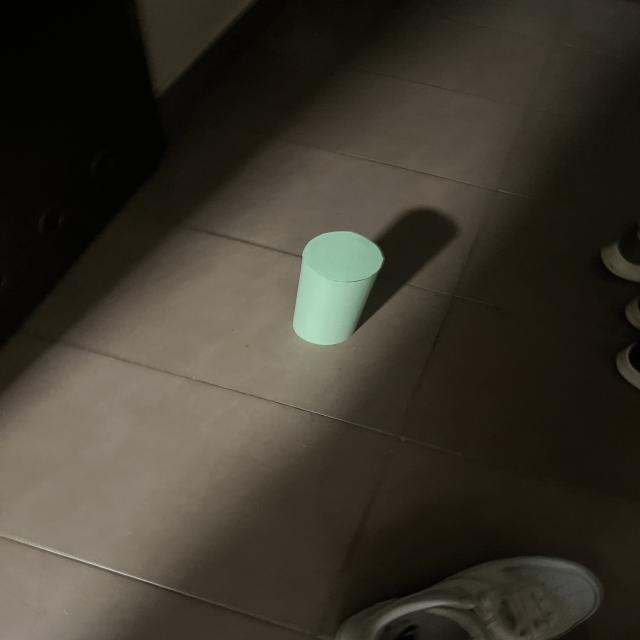meta: (293, 231, 384, 345)
